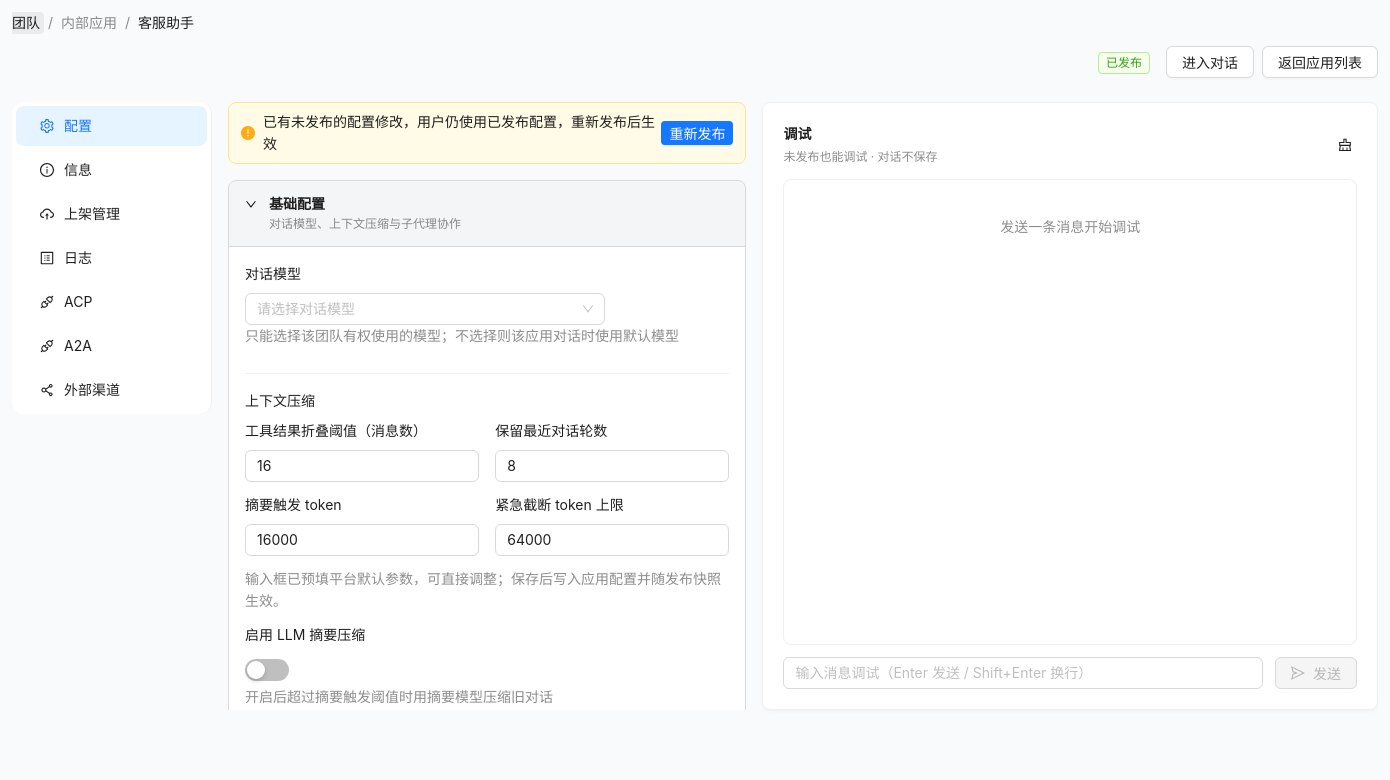
Test: AppWorkspace（应用工作台） › 已发布且有未发布配置变更：仅配置区警告条提供「重新发布」（头部不提供发布入口），一键重发后警告消失
Expected: the text "已有未发布的配置修改，用户仍使用已发布配置，重新发布后生效" is shown, [263,111,661,155]
Note: 配置区警告条一键重发：不携带版本号（版本保持原值），警告条消失
Click the button "重新发布" at (697, 133), box [661,121,733,145]
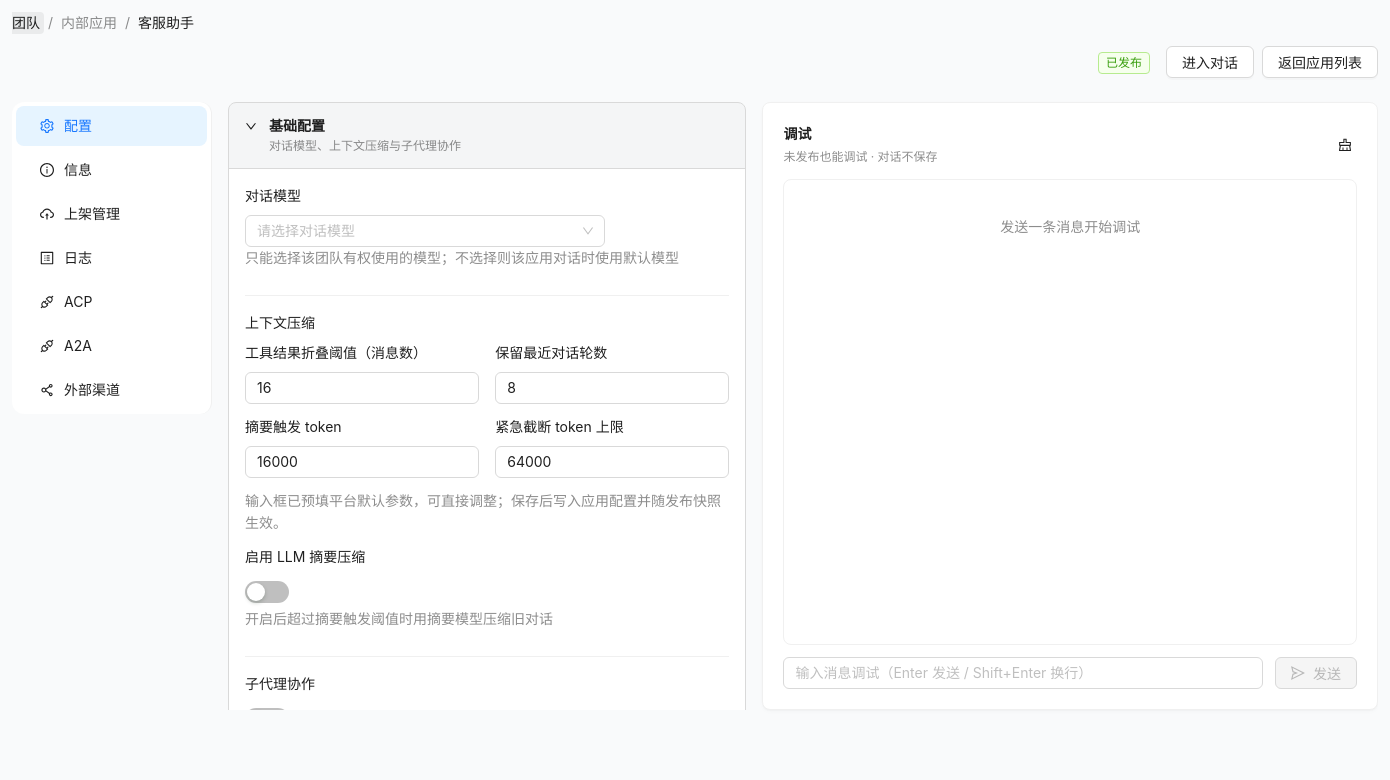
Result: the text "已有未发布的配置修改" is gone
